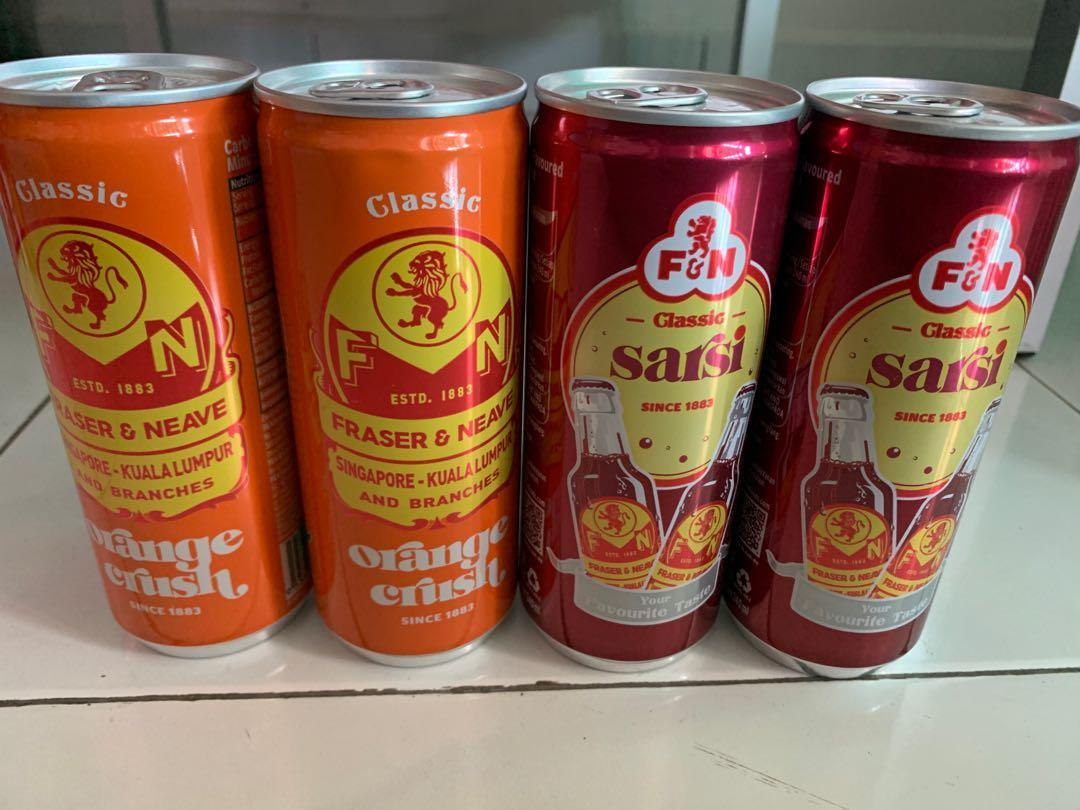metal: (0, 41, 1066, 679)
